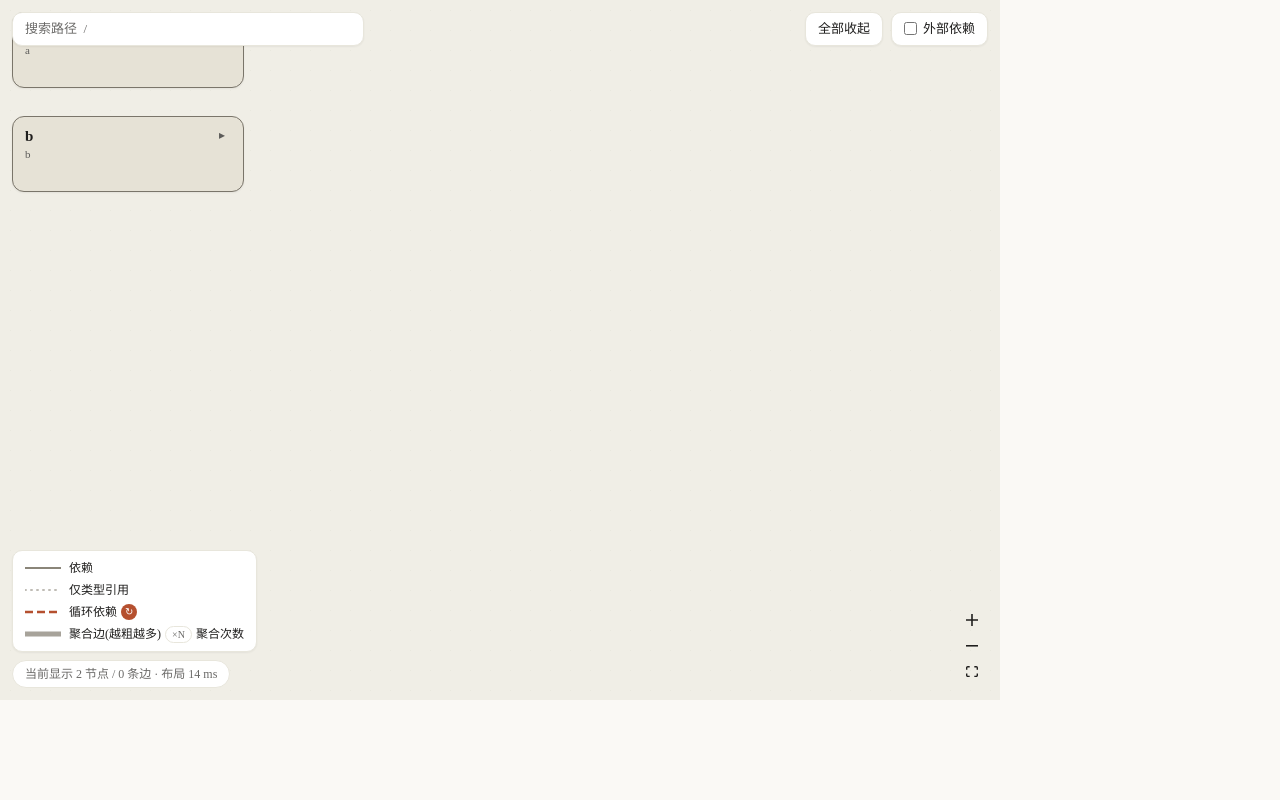
Test: <GraphView> 真实接口:聚合边、边界节点、截断提示 › 自动请求返回前用户已手动操作:丢弃返回结果,不再自动展开
Click the button named "展开 b".
click(222, 135)  # box [213, 127, 231, 143]
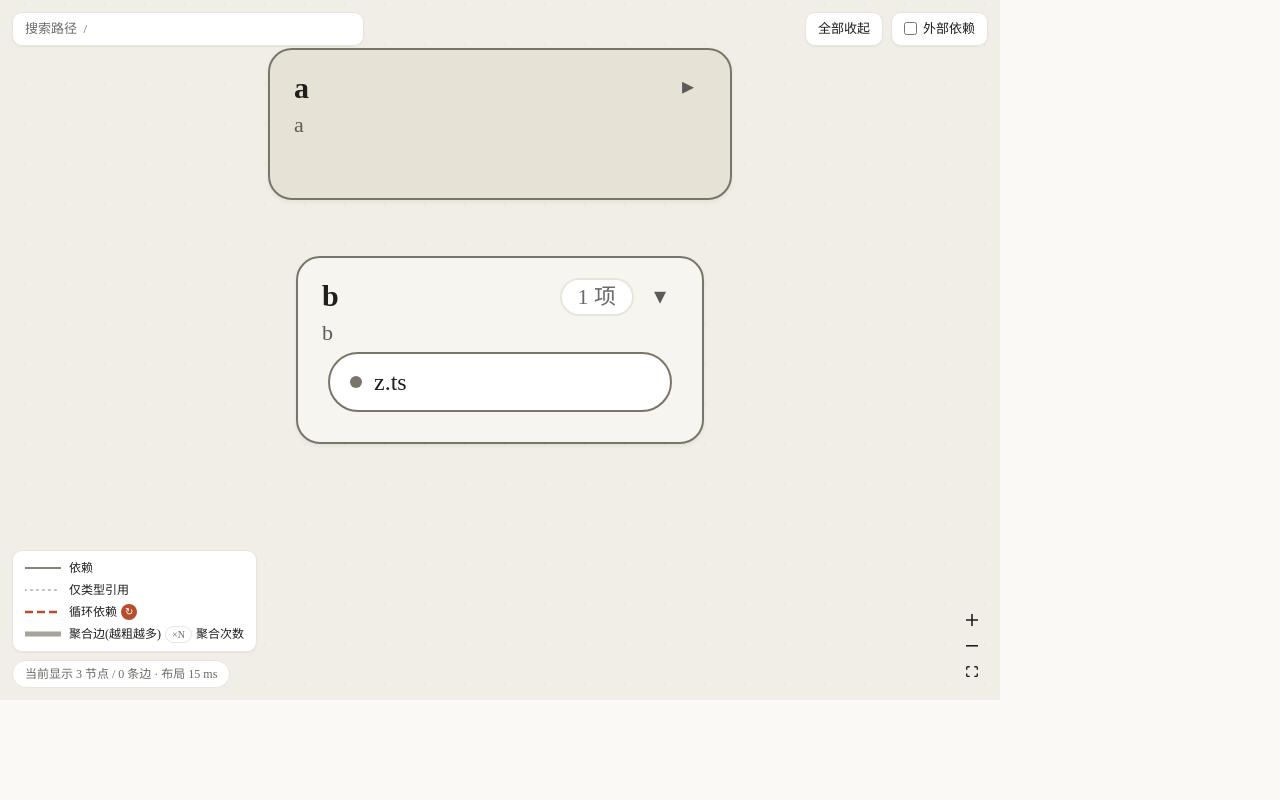
Expected: the button named "展开 a" is shown, [670, 70, 706, 102]
Expected: the message shows "当前显示 3 节点", [25, 667, 217, 681]
